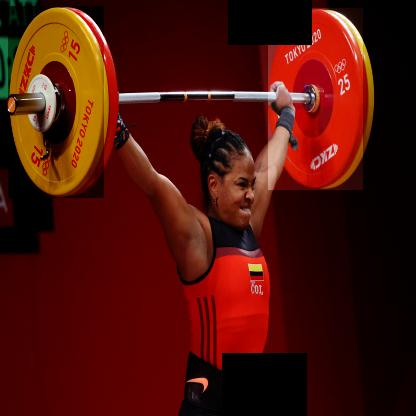barbell: (10, 7, 106, 199), (269, 9, 364, 191)
